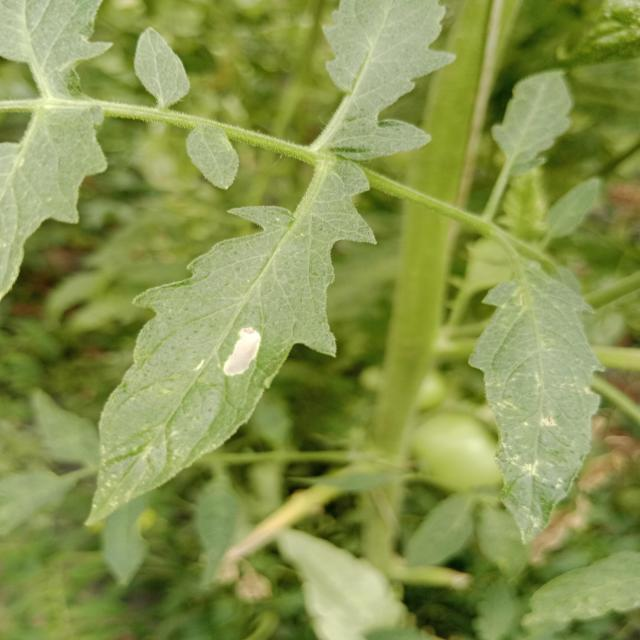Tuta absoluta: (221, 324, 266, 383)
